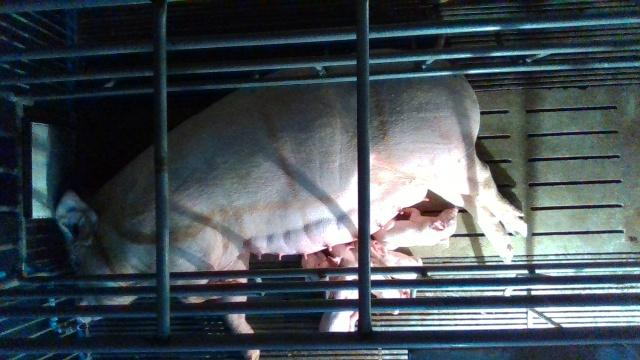piglet: (328, 244, 410, 314), (373, 208, 457, 250), (320, 276, 359, 333), (370, 241, 423, 280)
sow-sleep-lactate: (54, 49, 529, 360)
